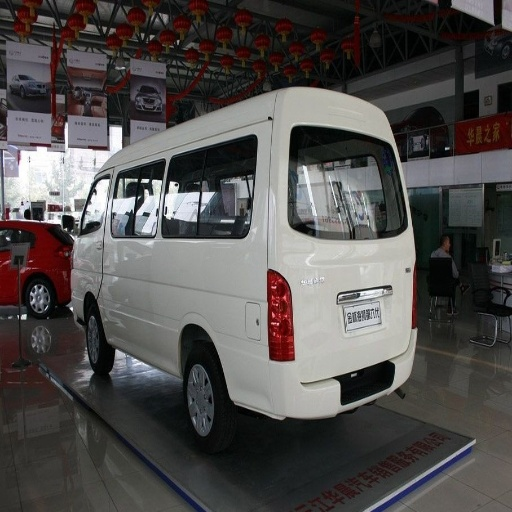back_bumper: (231, 333, 410, 419)
back_left_light: (269, 276, 293, 359)
trunk: (125, 241, 265, 386), (275, 240, 413, 375), (25, 227, 61, 277)
